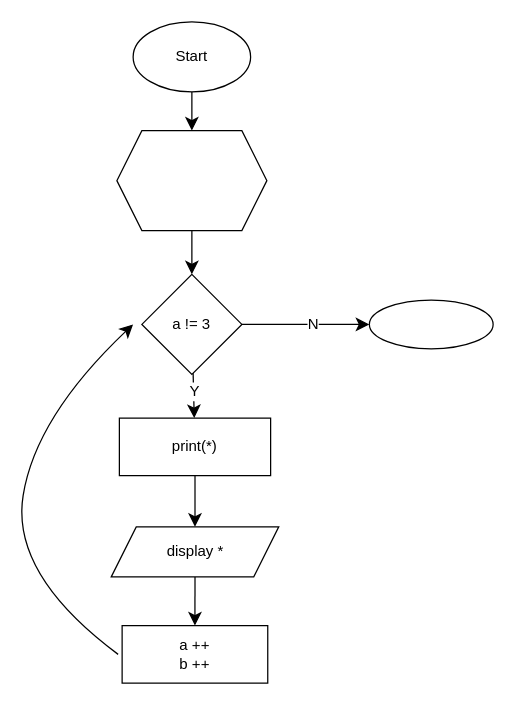
The diagram is 516 pixels wide and 705 high, and some of its shapes have lost their labels. The shapes that lost their labels are listed below. From the top down, each one's centre as x and y in pixels, then its label:
the point at 191,180: int: a=0,b=0
the point at 430,324: Stop
